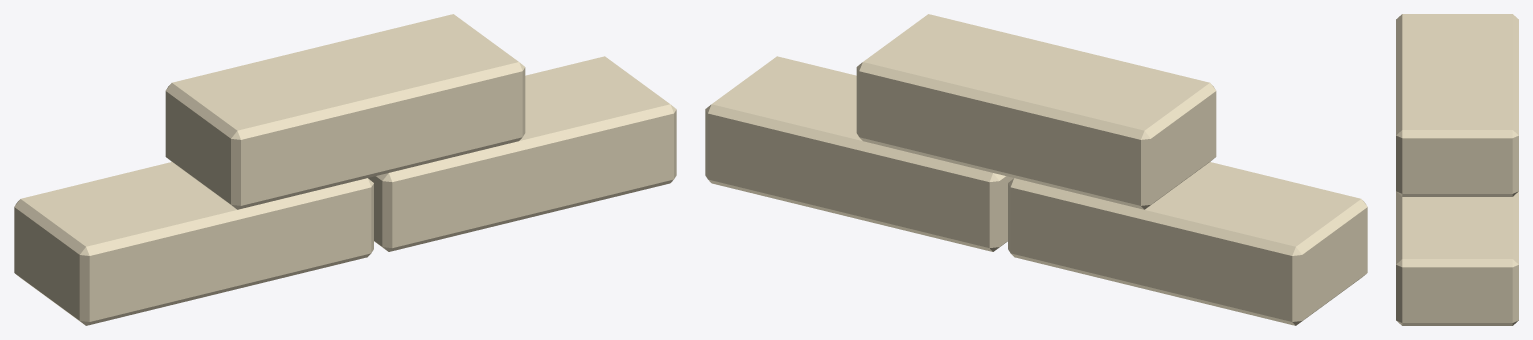
The picture shows the model from 3 angles, left to right: view 1: azimuth 30°, elevation 25°; view 2: azimuth 150°, elevation 25°; view 3: azimuth 270°, elevation 25°; orthographic projection. The views are drawn at different scales.
Parts seen in each view (by area): view 1: 下层.001, 上层.001; view 2: 下层.001, 上层.001; view 3: 上层.001, 下层.001.
Boxes of the visible parts, left/top/right/bottom form: 下层.001: left=14, top=56, right=676, bottom=325; 上层.001: left=165, top=14, right=525, bottom=209; 下层.001: left=705, top=56, right=1367, bottom=325; 上层.001: left=856, top=14, right=1216, bottom=209; 上层.001: left=1396, top=14, right=1518, bottom=196; 下层.001: left=1396, top=191, right=1518, bottom=325.
Size of the model in its own units: 142 by 36 by 30.
